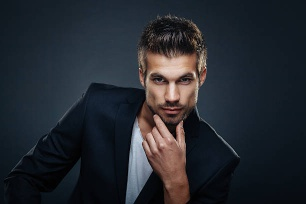male: (131, 33, 209, 125)
